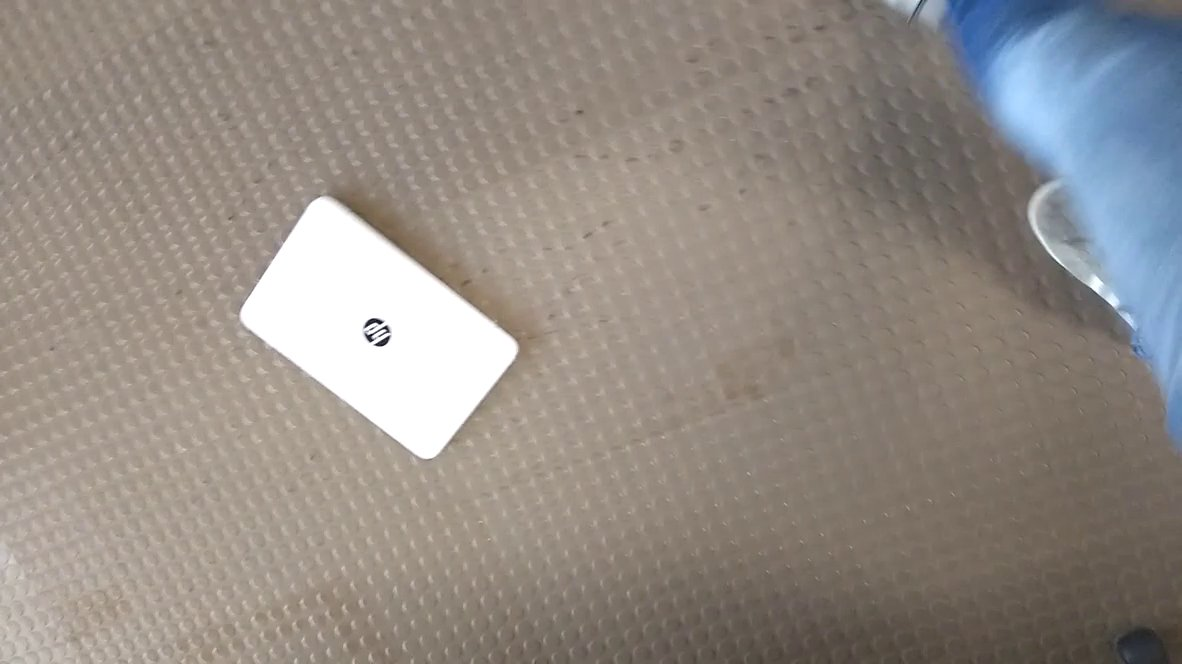laptop: (235, 188, 530, 467)
